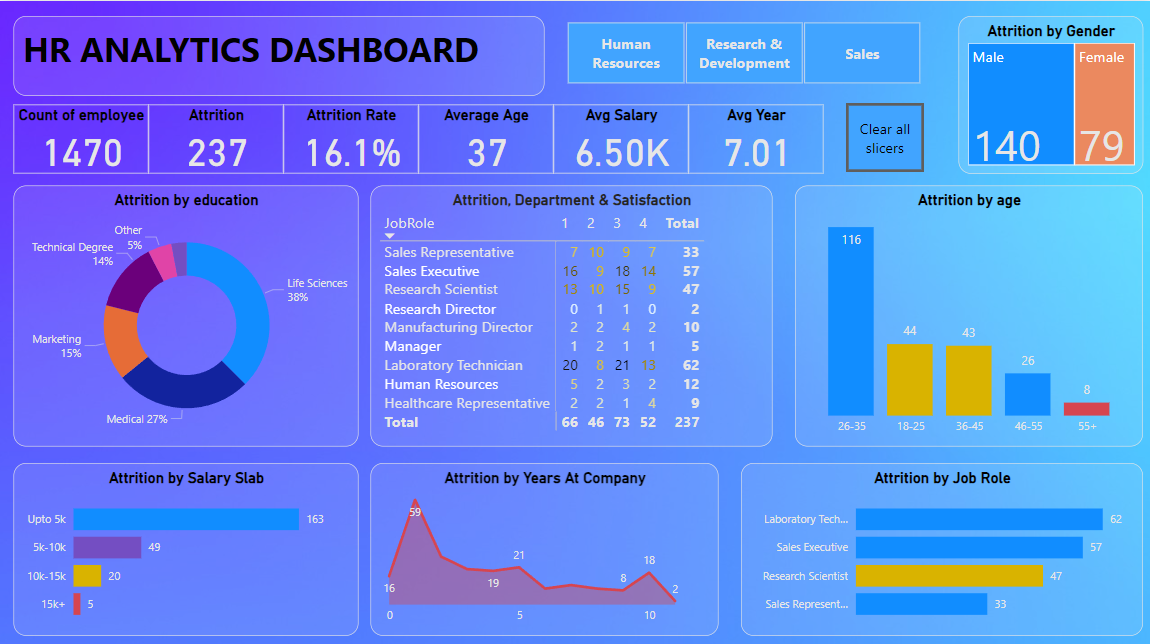

This screenshot's page, from the dashboard's own definition file:
{"tool":"powerbi","page":{"name":"Attrition Report","canvas":[1280,720],"ordinal":0},"visuals":[{"type":"card","title":"Count of employee","fields":{"Values":["Count(HR_Analytics.EmpID)"]},"box":[15,115,150,76.7],"z":0},{"type":"card","title":"Attrition","fields":{"Values":["Sum(HR_Analytics.AttritionCount)"]},"box":[165,115,150,76.7],"z":1000},{"type":"card","title":"Attrition Rate","fields":{"Values":["HR_Analytics.AttritionRate"]},"box":[315,115,150,76.7],"z":2000},{"type":"card","title":"Average Age","fields":{"Values":["Avg(HR_Analytics.Age)"]},"box":[465,115,150,76.7],"z":3000},{"type":"card","title":"Avg Salary ","fields":{"Values":["Avg(HR_Analytics.MonthlyIncome)"]},"box":[615,115,150,76.7],"z":4000},{"type":"card","title":"Avg Year","fields":{"Values":["Avg(HR_Analytics.YearsAtCompany)"]},"box":[765,115,150,76.7],"z":5000},{"type":"donutChart","title":"Attrition by education","fields":{"Category":["HR_Analytics.EducationField"],"Y":["Sum(HR_Analytics.AttritionCount)"]},"box":[15,205,383.3,290],"z":6000},{"type":"columnChart","title":"Attrition by age","fields":{"Category":["HR_Analytics.AgeGroup"],"Y":["Sum(HR_Analytics.AttritionCount)"]},"box":[883.3,205,386.7,290],"z":7000},{"type":"pivotTable","title":"Attrition, Department & Satisfaction","fields":{"Rows":["HR_Analytics.JobRole"],"Columns":["HR_Analytics.JobSatisfaction"],"Values":["Sum(HR_Analytics.AttritionCount)"]},"box":[411.7,205,446.7,290],"z":8000},{"type":"barChart","title":"Attrition by Salary Slab","fields":{"Category":["HR_Analytics.SalarySlab"],"Y":["Sum(HR_Analytics.AttritionCount)"]},"box":[15,513.3,383.3,191.7],"z":9000},{"type":"barChart","title":"Attrition by Job Role","fields":{"Category":["HR_Analytics.JobRole"],"Y":["Sum(HR_Analytics.AttritionCount)"]},"box":[823.3,513.3,446.7,191.7],"z":10000},{"type":"areaChart","title":"Attrition by Years At Company","fields":{"Category":["HR_Analytics.YearsAtCompany"],"Y":["Sum(HR_Analytics.AttritionCount)"]},"box":[411.7,513.3,386.7,191.7],"z":11000},{"type":"treemap","title":"Attrition by Gender","fields":{"Group":["HR_Analytics.Gender"],"Values":["Sum(HR_Analytics.AttritionCount)"]},"box":[1065,16.7,205,175],"z":12000},{"type":"slicer","fields":{"Values":["HR_Analytics.Department"]},"box":[605,16.7,441.7,81.7],"z":13000},{"type":"textbox","box":[15,16.7,590,88.3],"z":14000},{"type":"actionButton","box":[940,113.3,86.7,76.7],"z":15000}]}

Visuals, with their boxes in screenshot pixels (x1, y1, x2, y2), scaled from the page's 1280x720 canvas onto the 1150x644 screenshot:
"Count of employee" card: region(13, 103, 148, 171)
"Attrition" card: region(148, 103, 283, 171)
"Attrition Rate" card: region(283, 103, 418, 171)
"Average Age" card: region(418, 103, 553, 171)
"Avg Salary " card: region(553, 103, 687, 171)
"Avg Year" card: region(687, 103, 822, 171)
"Attrition by education" donutChart: region(13, 183, 358, 443)
"Attrition by age" columnChart: region(794, 183, 1141, 443)
"Attrition, Department & Satisfaction" pivotTable: region(370, 183, 771, 443)
"Attrition by Salary Slab" barChart: region(13, 459, 358, 631)
"Attrition by Job Role" barChart: region(740, 459, 1141, 631)
"Attrition by Years At Company" areaChart: region(370, 459, 717, 631)
"Attrition by Gender" treemap: region(957, 15, 1141, 171)
slicer - HR_Analytics.Department: region(544, 15, 940, 88)
textbox: region(13, 15, 544, 94)
actionButton: region(845, 101, 922, 170)
